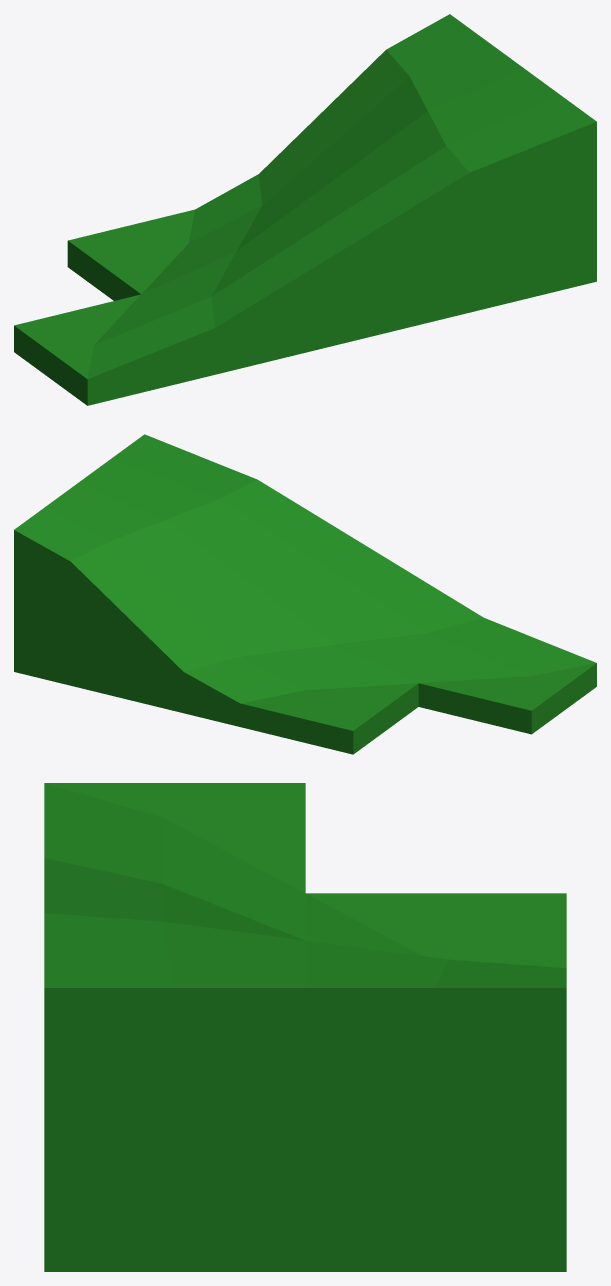
File: grass_hill_1_to_2.obj
3 views of the same model, one above another, from view 1: azimuth 30°, elevation 25°; view 2: azimuth 150°, elevation 25°; view 3: azimuth 270°, elevation 25° (orthographic). The views are drawn at different scales.
Parts seen in each view (by area): view 1: grass_hill_1_to_2_CUBezierCurve.003; view 2: grass_hill_1_to_2_CUBezierCurve.003; view 3: grass_hill_1_to_2_CUBezierCurve.003.
Boxes of the visible parts, box(x1,y1,x2,y2) form: grass_hill_1_to_2_CUBezierCurve.003: box(14, 14, 596, 405); grass_hill_1_to_2_CUBezierCurve.003: box(14, 434, 596, 754); grass_hill_1_to_2_CUBezierCurve.003: box(44, 783, 566, 1271).
Size of the model in its own units: 4 by 1.2 by 2.
